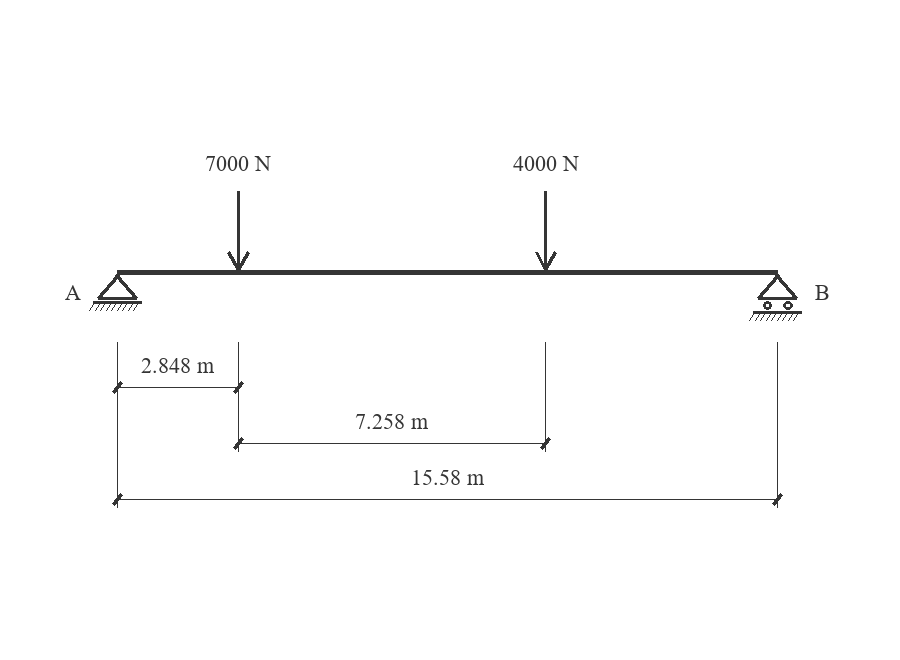pin_support: (89, 274, 142, 311)
point_load: (227, 191, 250, 271), (535, 191, 557, 271)
roller_support: (749, 274, 802, 321)
